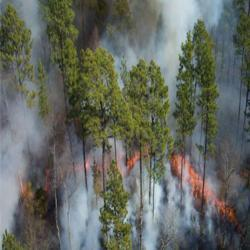fire: (217, 198, 239, 219), (190, 174, 207, 197), (128, 153, 140, 164)
